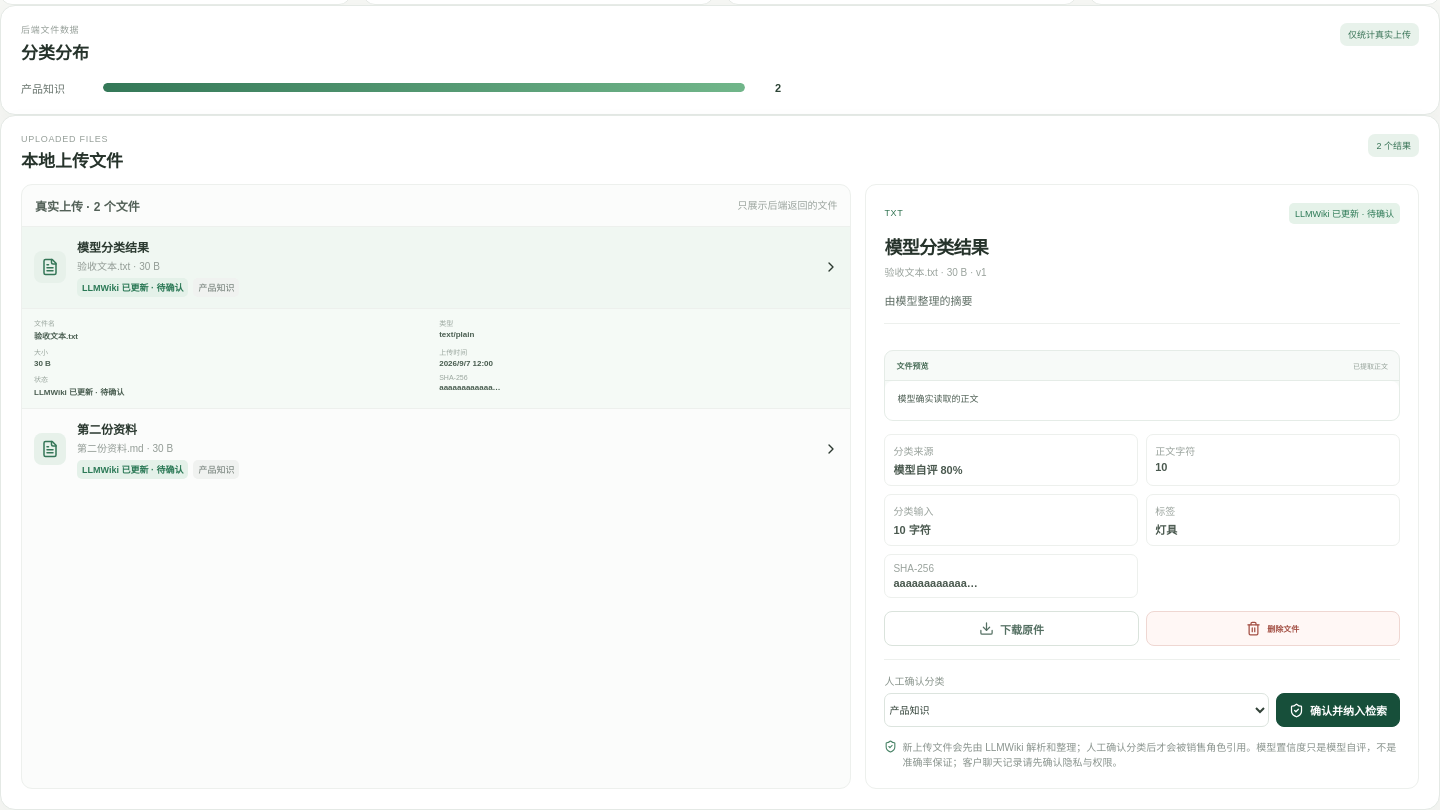
Test case: Knowledge hub › shows selected file attributes below the row and renders its preview on the right
This screenshot has width=1440, height=810.
(page scrolled)
Click the button "第二份资料 第二份资料.md · 30 B LLMWiki 已更新 · 待确认 产品知识" at coordinates (50, 449), box [22,409,850,490]
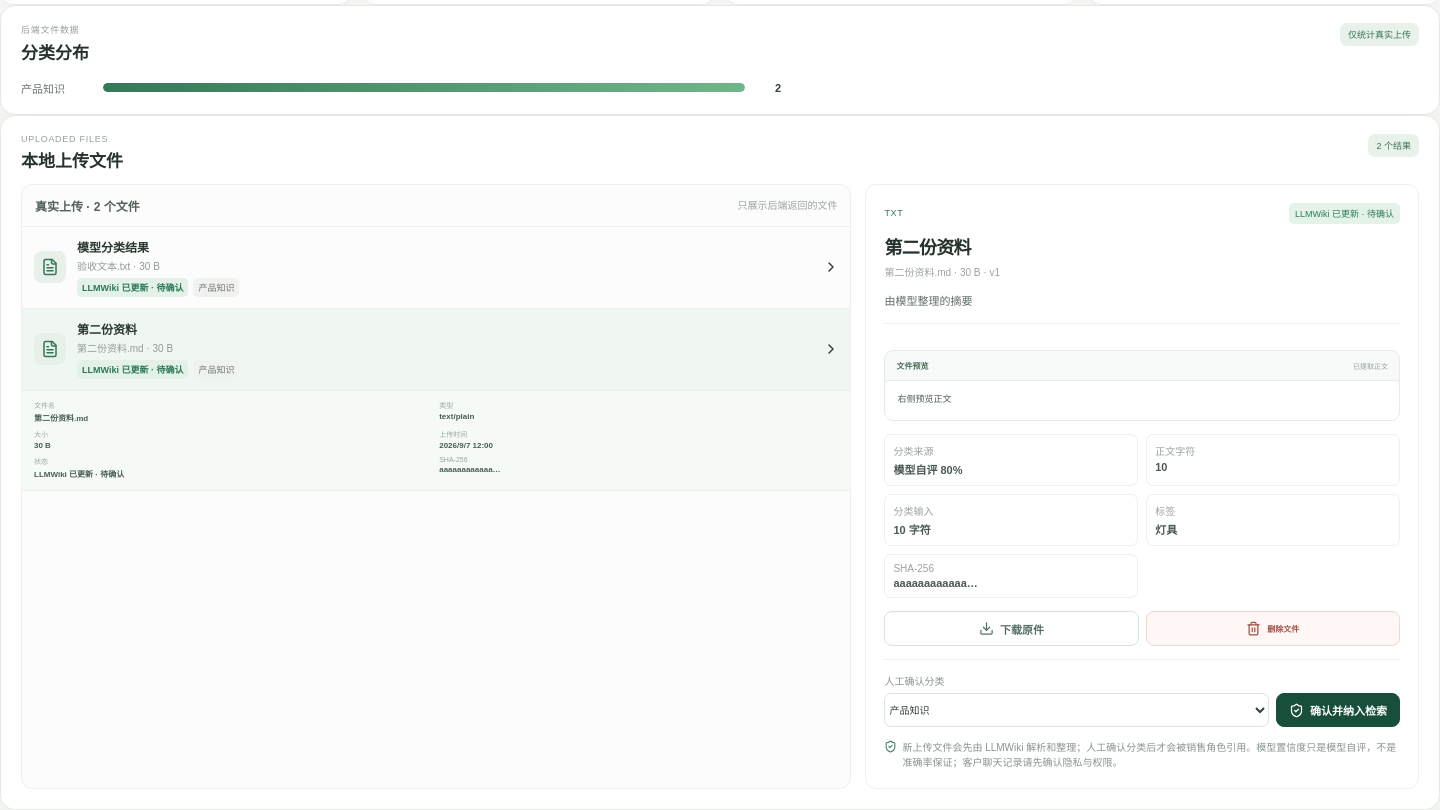
Expected: the element named "文件属性" shows "30 B", [34,441,51,450]
Now the element named "文件属性" shows "第二份资料.md", box [34,414,88,423]
Now the element "文件预览" shows "右侧预览正文", box [897,395,951,405]
